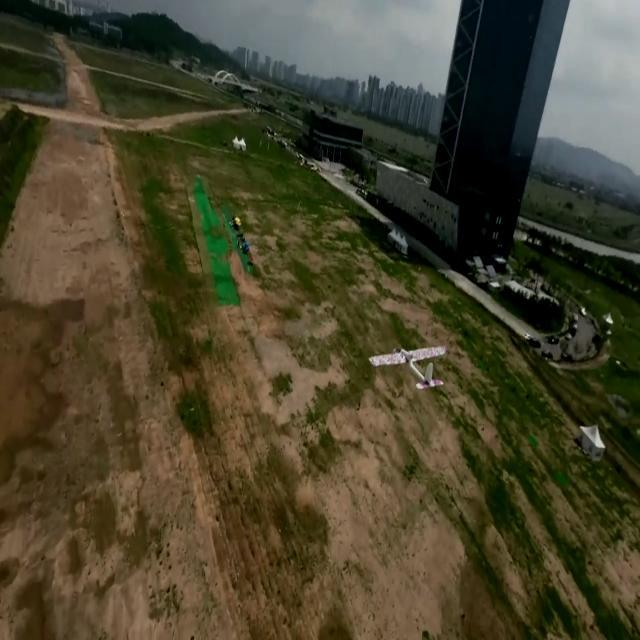iha: (393, 354, 423, 375)
